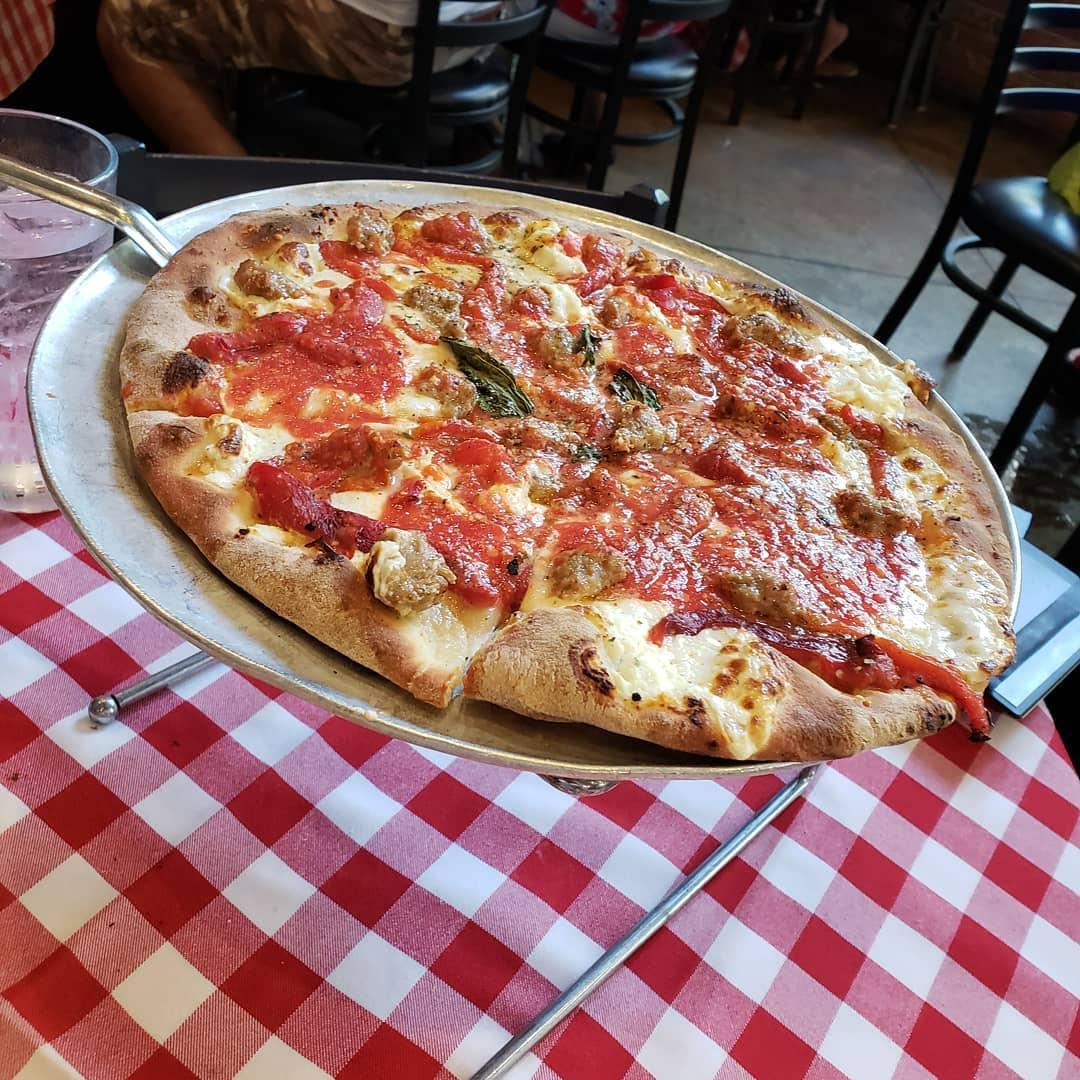Basil: (442, 335, 537, 422)
Cheese: (893, 465, 1002, 642), (803, 327, 905, 418)
Peppers: (865, 639, 994, 744)
Pizza: (117, 205, 1010, 762)
